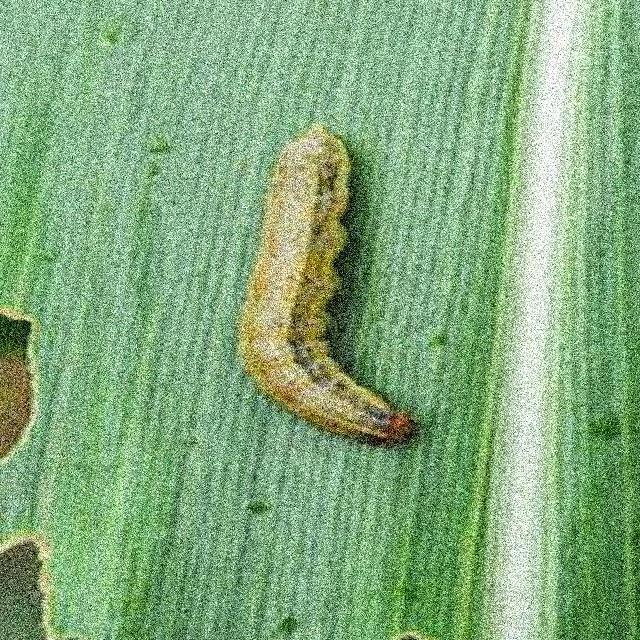Plaga: (229, 119, 420, 456)
